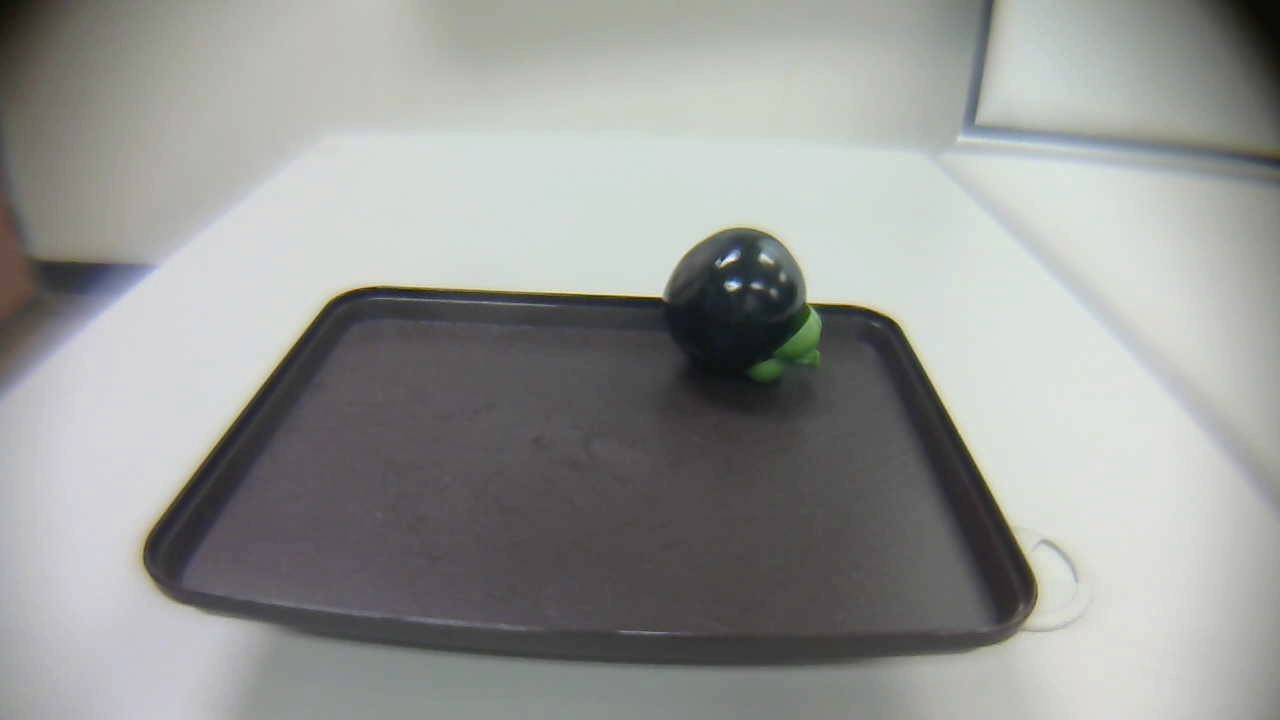mangosteen: (662, 227, 831, 392)
